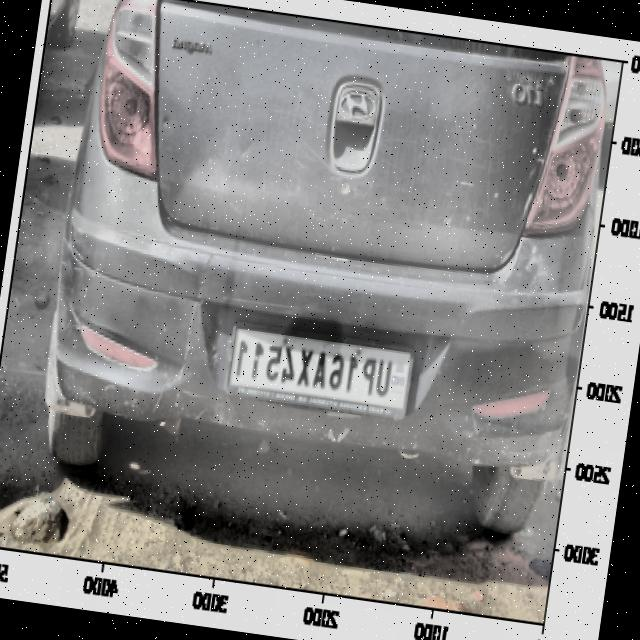license_plate: (226, 327, 404, 410)
